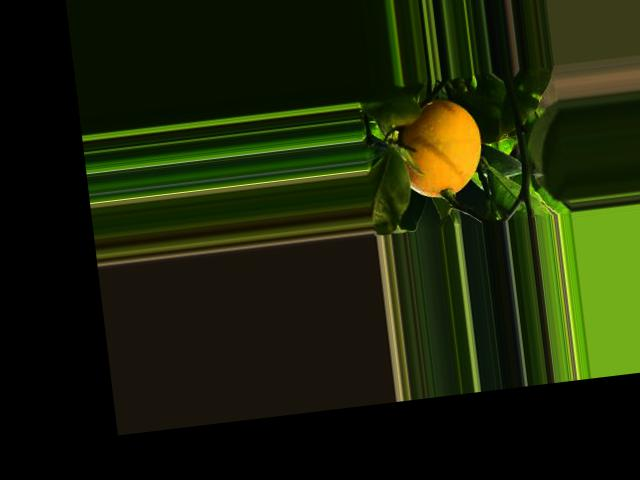lemon: (385, 91, 494, 206)
